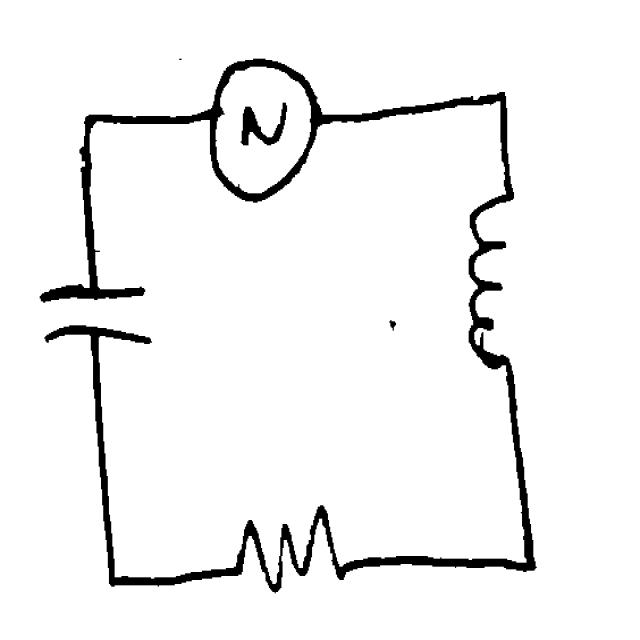ac: (198, 48, 331, 214)
capacitor: (20, 270, 165, 367)
inductor: (454, 176, 530, 393)
resistor: (216, 496, 355, 602)
